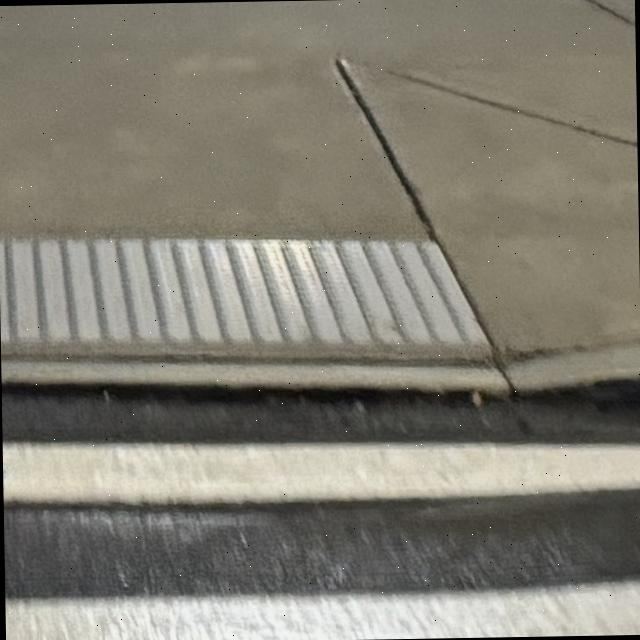curb: (1, 344, 640, 402)
